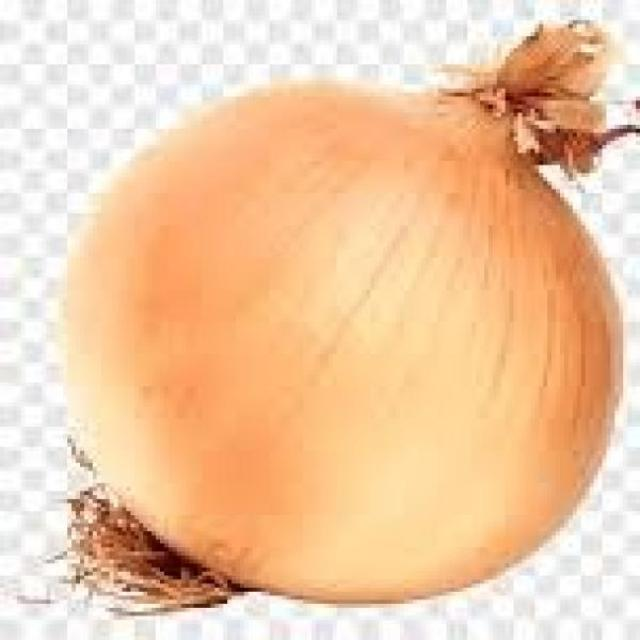Onion: (60, 22, 638, 617)
